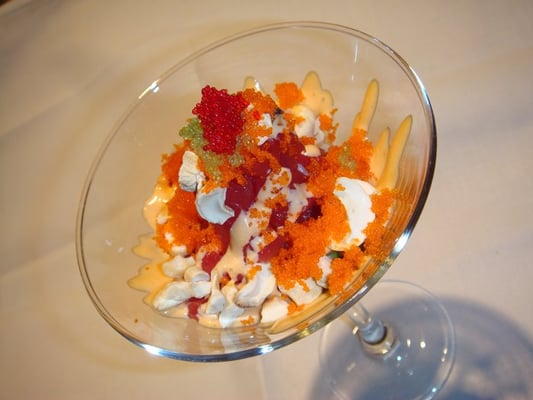curry: (3, 2, 527, 400)
pizza: (274, 82, 305, 109)
